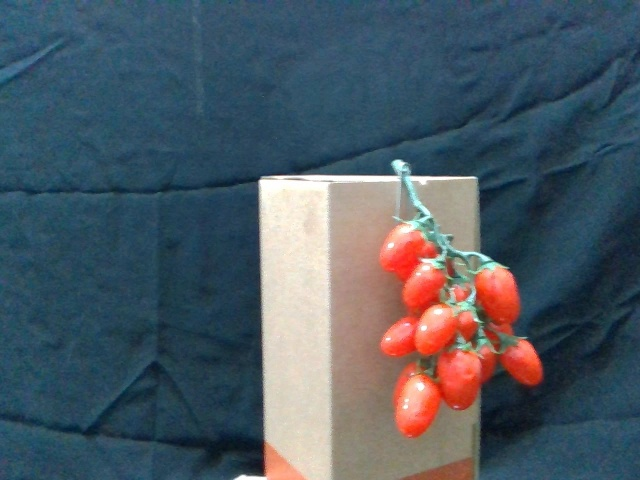tomato: (474, 259, 526, 323), (440, 337, 483, 412), (396, 368, 438, 436), (501, 335, 549, 388), (404, 258, 450, 313), (415, 302, 463, 354), (381, 221, 427, 274), (378, 314, 420, 358)
